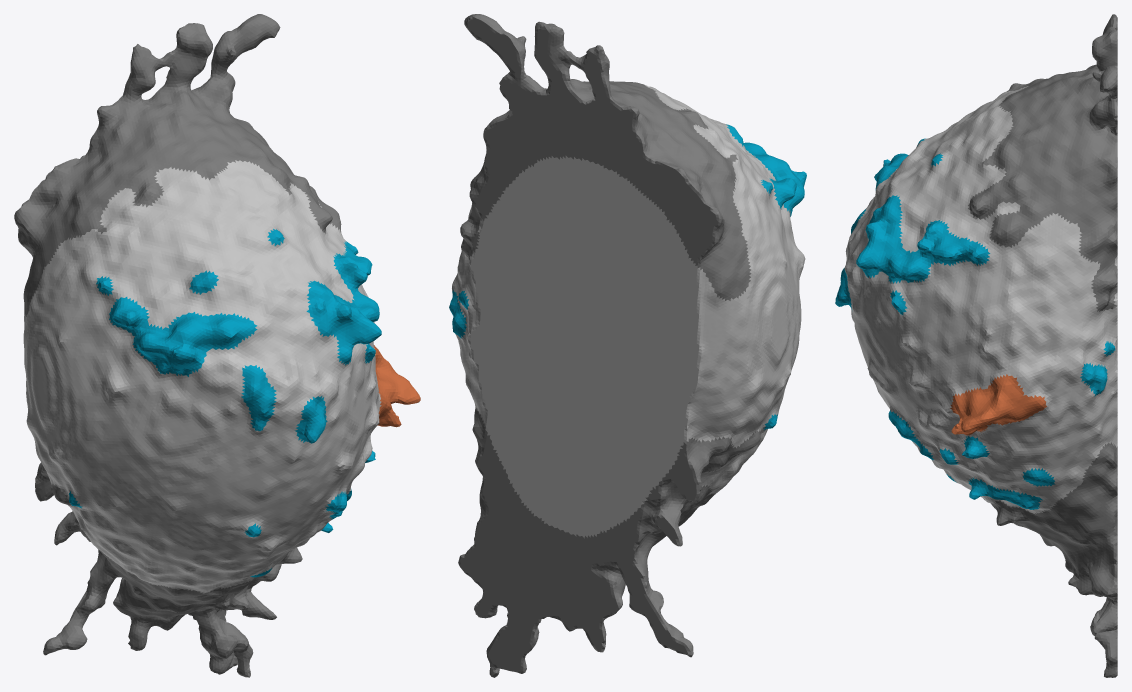
The picture shows the model from 3 angles, left to right: view 1: azimuth 30°, elevation 25°; view 2: azimuth 150°, elevation 25°; view 3: azimuth 270°, elevation 25°; orthographic projection. The views are drawn at different scales.
Size of the model in its own units: 91.29 by 169 by 69.6.
